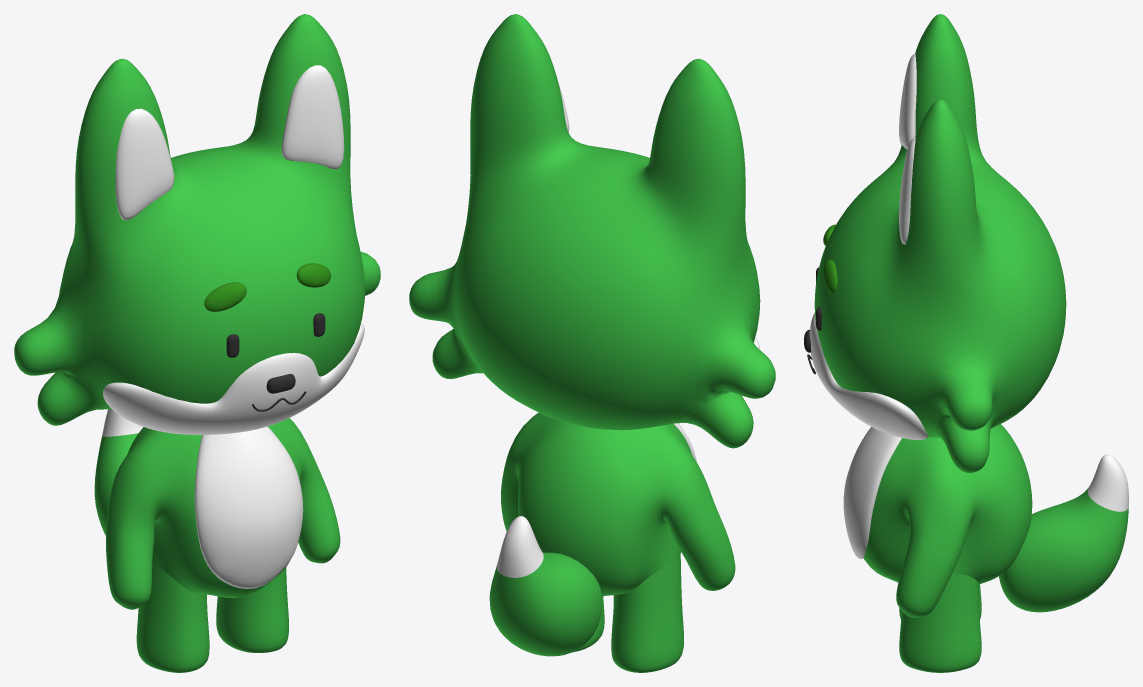
File: character_green.glb
3 renders of one model, left to right at view 1: azimuth 30°, elevation 25°; view 2: azimuth 150°, elevation 25°; view 3: azimuth 270°, elevation 25°, orthographic. The views are drawn at different scales.
Parts seen in each view (by area): view 1: Tete.004, corps.007, corps.008, Cube.016, oreille intérieur.003, Cube.020, Cube.018, Cube.017; view 2: Tete.004, corps.007, Cube.020; view 3: Tete.004, corps.007, Cube.020, corps.008, Cube.016, oreille intérieur.003, Cube.018.
Part boxes in pixels (x1,y1,x2,y2): Tete.004: (14,14,380,425); corps.007: (106,418,340,672); corps.008: (194,426,303,588); Cube.016: (103,323,364,434); oreille intérieur.003: (115,65,344,220); Cube.020: (94,409,143,535); Cube.018: (204,263,330,311); Cube.017: (226,313,325,357); Tete.004: (409,14,775,448); corps.007: (501,412,735,672); Cube.020: (489,516,602,656); Tete.004: (814,14,1066,472); corps.007: (863,424,1032,672); Cube.020: (999,454,1128,612); corps.008: (843,427,901,558); Cube.016: (809,313,928,439); oreille intérieur.003: (899,53,916,244); Cube.018: (823,224,837,293).
Size of the model in its own units: 2.53 by 4.12 by 2.07.
